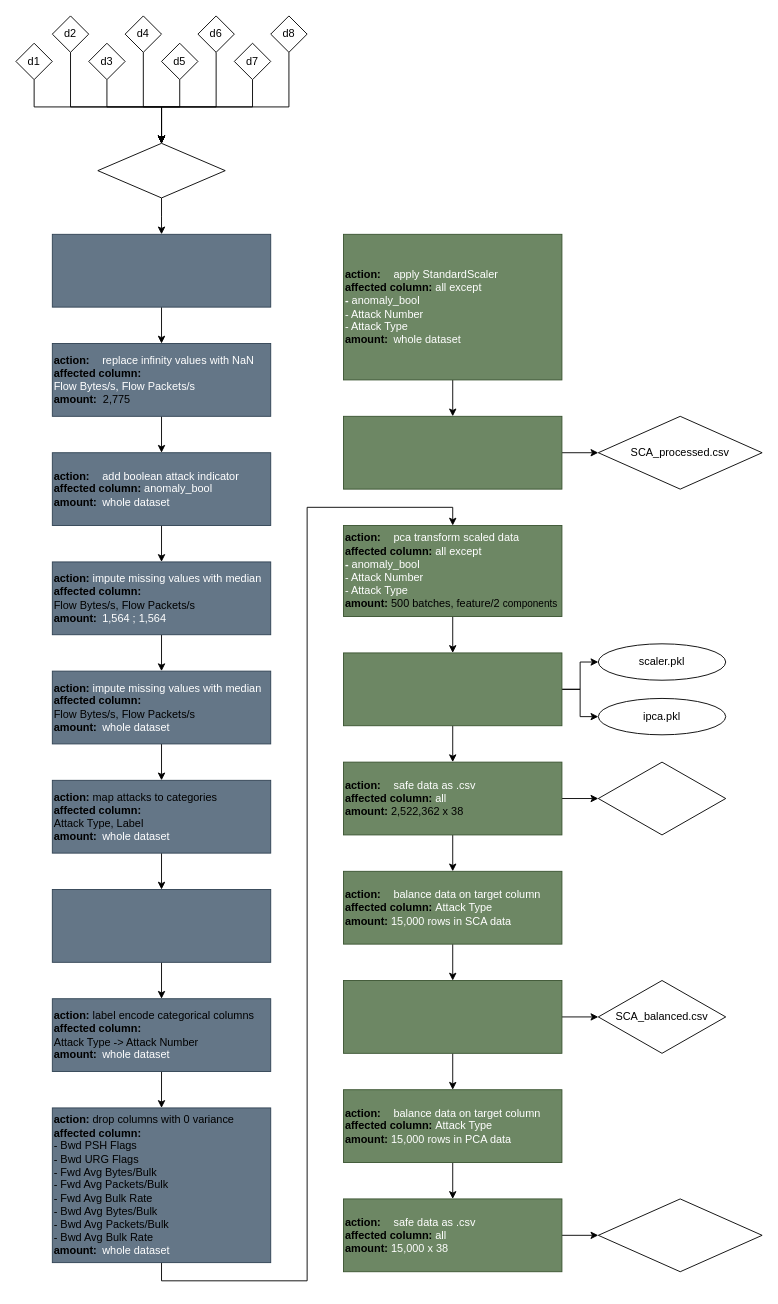
Image size: 778x1304. Some labels were removed from this diagram. The shapes that lost their labels are listed below. From the top down, each one's centre as x and y in pixels, then its label:
(x=161, y=170): concatenated_df
(x=161, y=270): action: drop duplicate rows affected column: all amount: 308,381
(x=452, y=452): action: safe data as .csv affected column: all amount: 2,522,362 x 73
(x=452, y=689): action: save scaler and PCA model affected column: - amount: -
(x=661, y=798): PCA_processed.csv
(x=161, y=925): action: drop not needed columns affected column: Label amount: whole dataset
(x=452, y=1016): action: safe data as .csv affected column: all amount: 15,000 x 73
(x=679, y=1235): PCA_balanced.csv
